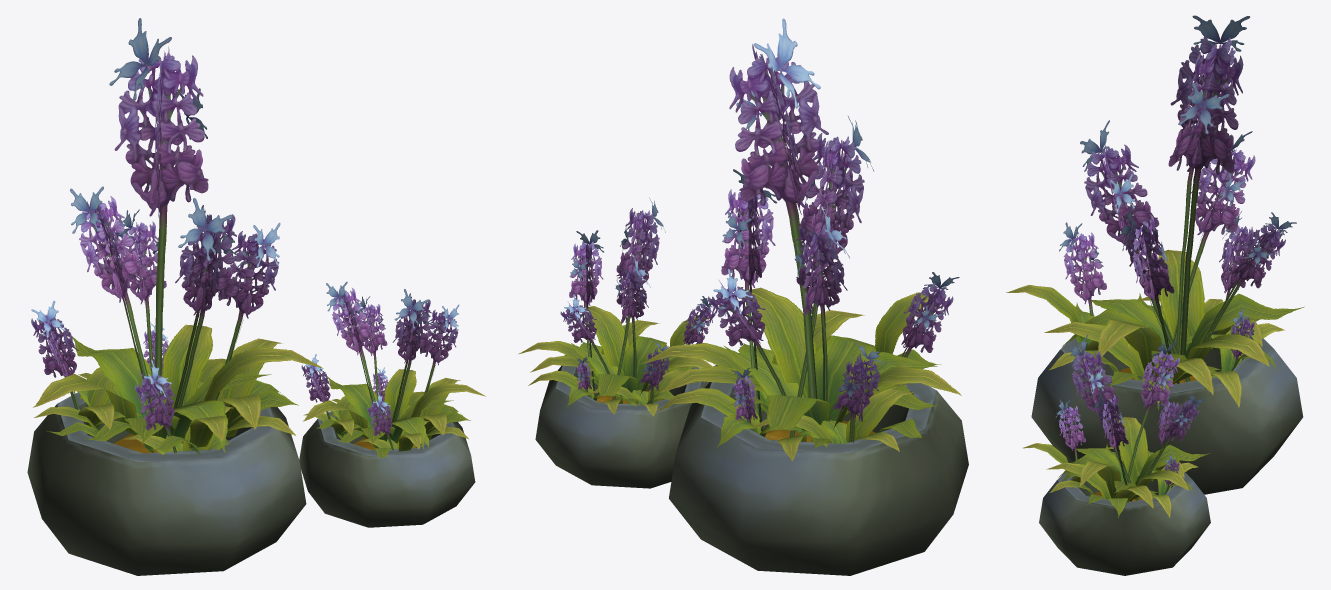
The model's file is 1001_Plant_huacao_15.FBX.
3 renders of one model, left to right at view 1: azimuth 30°, elevation 25°; view 2: azimuth 150°, elevation 25°; view 3: azimuth 270°, elevation 25°, orthographic. The views are drawn at different scales.
Parts seen in each view (by area): view 1: 1001_Plant_huacao_15; view 2: 1001_Plant_huacao_15; view 3: 1001_Plant_huacao_15.
Boxes of the visible parts, x1,y1,x2,y2 form: 1001_Plant_huacao_15: (27, 18, 485, 575); 1001_Plant_huacao_15: (519, 18, 968, 575); 1001_Plant_huacao_15: (1006, 15, 1304, 575).
Size of the model in its own units: 120 by 128 by 80.75.
